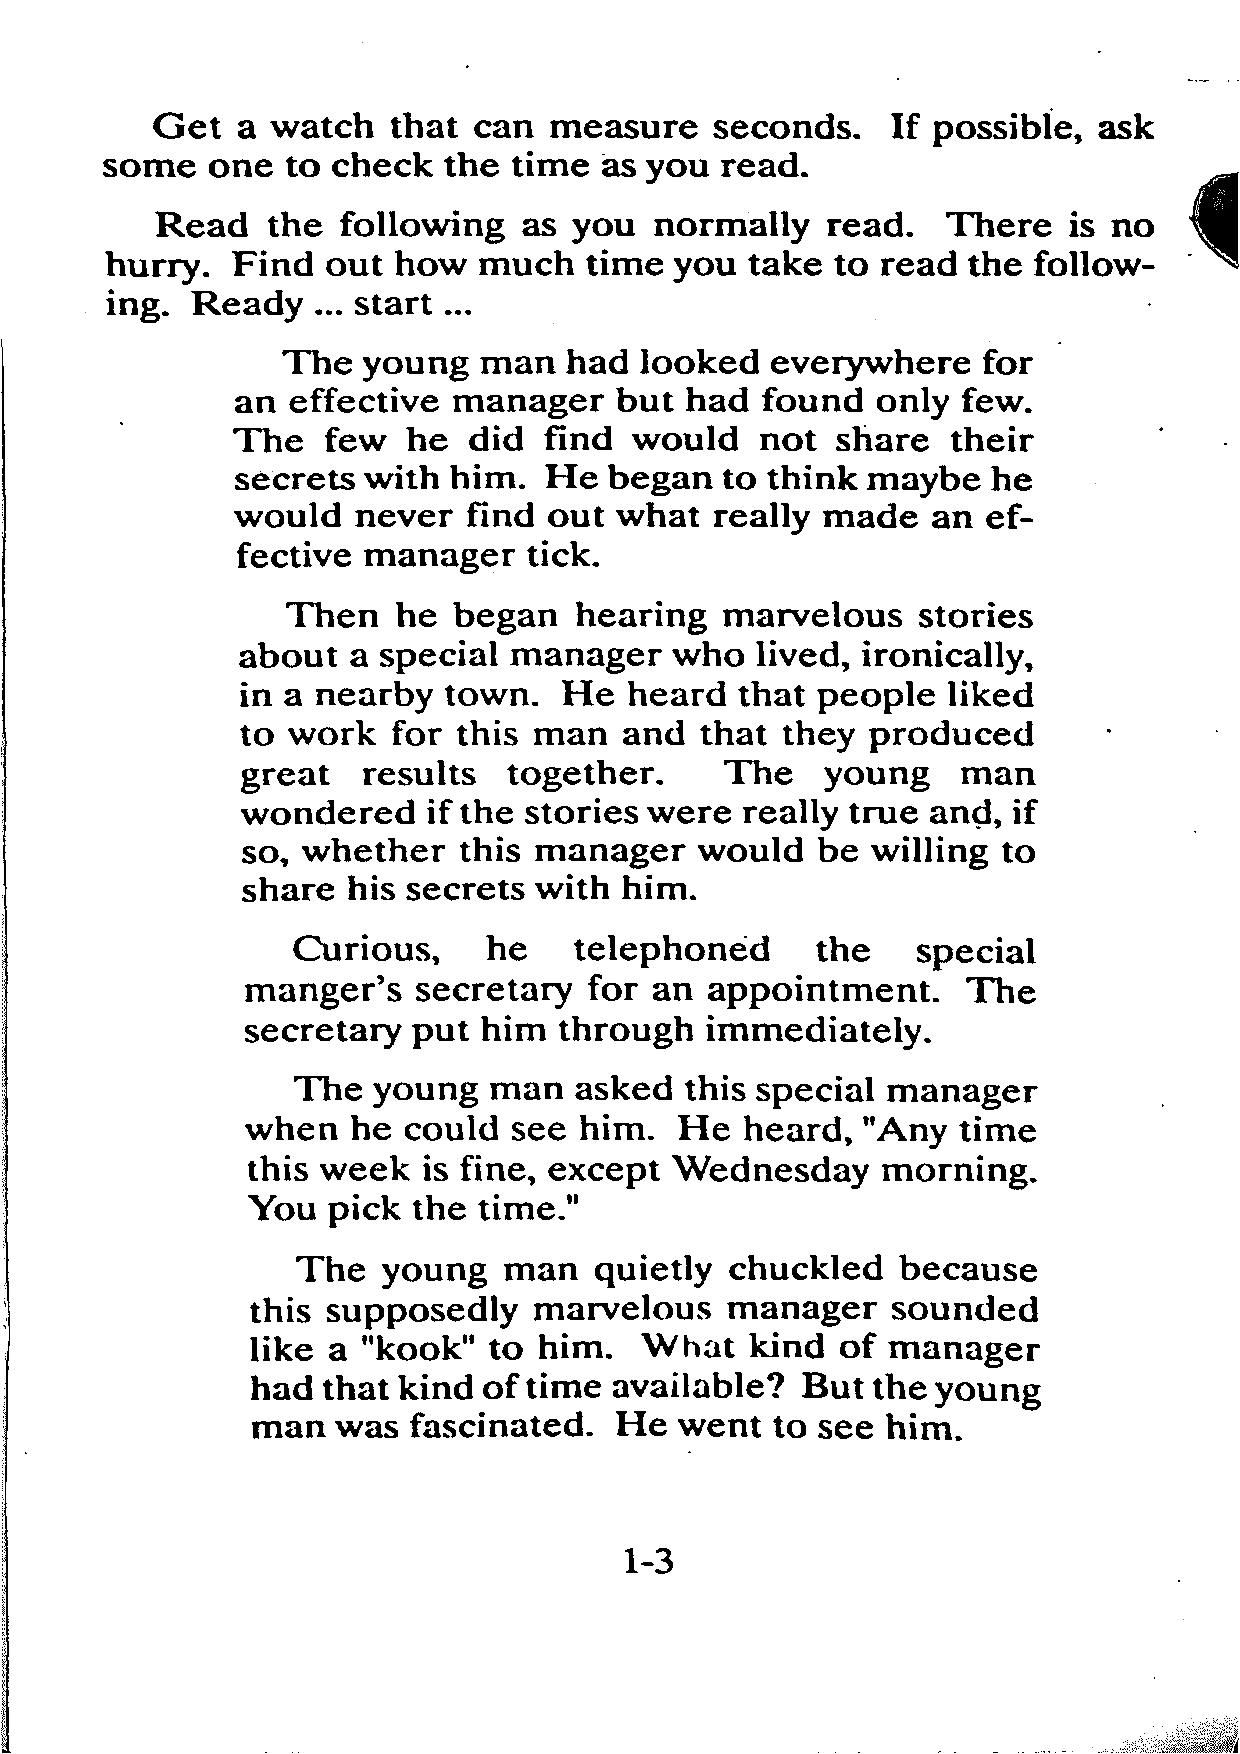content: (98, 101, 1162, 1448)
content_pagenumber: (601, 1537, 684, 1584)
